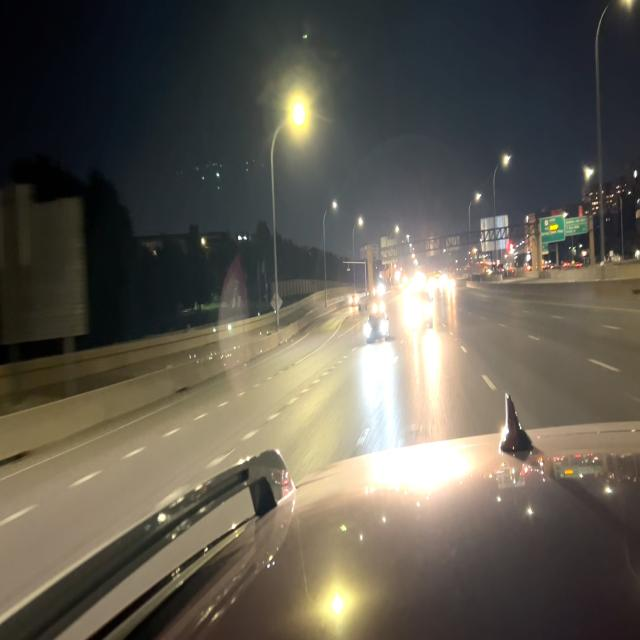back-of-sign: (478, 213, 510, 254), (380, 232, 410, 264), (423, 233, 442, 257), (444, 232, 462, 255)
